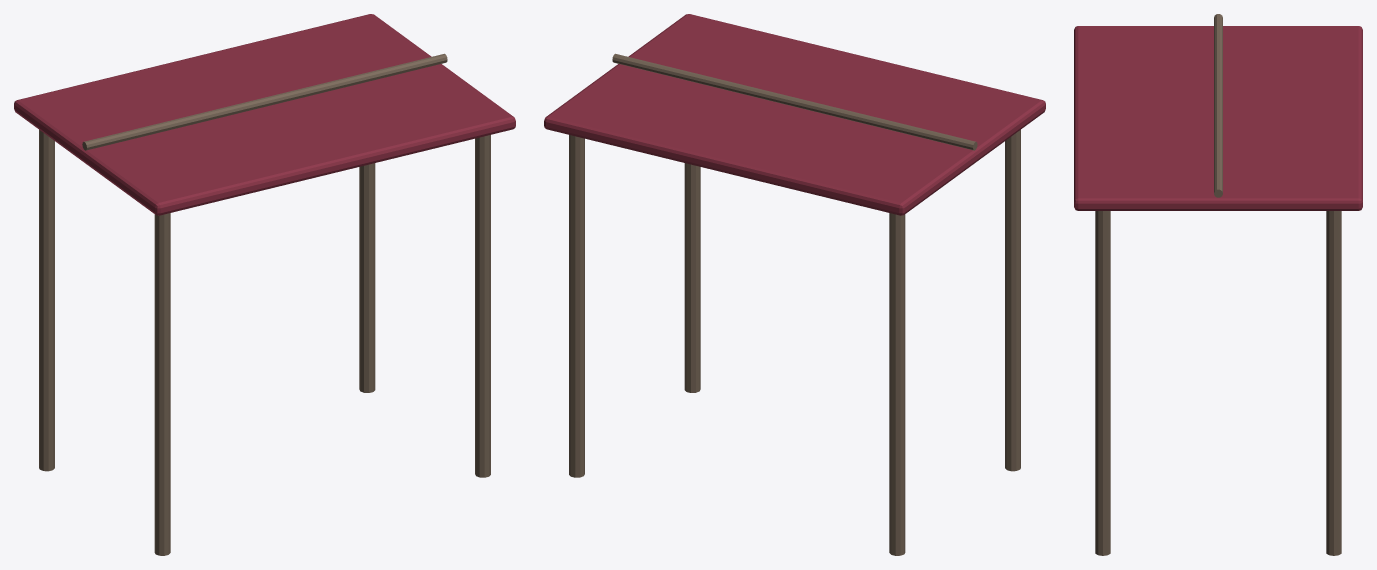
File: canopy.glb
3 renders of one model, left to right at view 1: azimuth 30°, elevation 25°; view 2: azimuth 150°, elevation 25°; view 3: azimuth 270°, elevation 25°, orthographic.
Parts seen in each view (by area): view 1: Body.061; view 2: Body.061; view 3: Body.061.
Part boxes in pixels (x1,y1,x2,y2): Body.061: [14, 14, 515, 555]; Body.061: [544, 14, 1045, 555]; Body.061: [1074, 14, 1362, 555].
Bounding box in the file's own units: 1.8 × 1.78 × 1.25.
